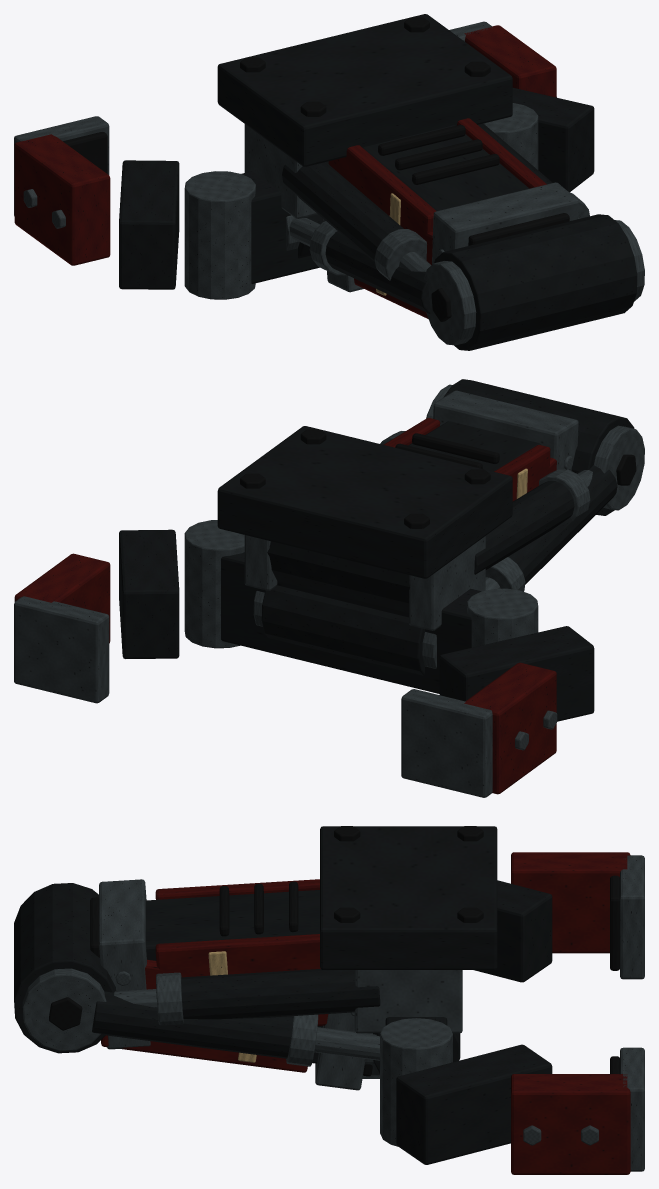
Rendered from ProxyMinePlacementArm.glb.
3 renders of one model, top to bottom at view 1: azimuth 30°, elevation 25°; view 2: azimuth 150°, elevation 25°; view 3: azimuth 270°, elevation 25°, orthographic.
Visible parts, largest first — view 1: MountGeometry, JawLeftGeometry, UpperGeometry, ForearmGeometry, JawRightGeometry, WristGeometry, SlideGeometry, Slide.001Geometry; view 2: MountGeometry, JawLeftGeometry, JawRightGeometry, UpperGeometry, ForearmGeometry, Slide.001Geometry, WristGeometry, SlideGeometry; view 3: MountGeometry, JawRightGeometry, UpperGeometry, ForearmGeometry, JawLeftGeometry, Slide.001Geometry, SlideGeometry.
Part boxes in pixels (<box>): MountGeometry: <box>217,14,512,218</box>; JawLeftGeometry: <box>14,116,255,299</box>; UpperGeometry: <box>282,118,589,280</box>; ForearmGeometry: <box>309,214,644,350</box>; JawRightGeometry: <box>449,21,594,191</box>; WristGeometry: <box>241,171,319,283</box>; SlideGeometry: <box>399,217,579,340</box>; Slide.001Geometry: <box>286,214,323,258</box>; MountGeometry: <box>217,426,512,630</box>; JawLeftGeometry: <box>401,588,594,797</box>; JawRightGeometry: <box>14,520,244,703</box>; UpperGeometry: <box>380,390,590,574</box>; ForearmGeometry: <box>426,379,644,591</box>; Slide.001Geometry: <box>253,577,500,675</box>; WristGeometry: <box>221,552,481,693</box>; SlideGeometry: <box>577,436,641,503</box>; MountGeometry: <box>320,826,497,1033</box>; JawRightGeometry: <box>380,1018,644,1174</box>; UpperGeometry: <box>90,879,380,1049</box>; ForearmGeometry: <box>14,883,372,1090</box>; JawLeftGeometry: <box>474,852,644,982</box>; Slide.001Geometry: <box>314,1027,460,1073</box>; SlideGeometry: <box>25,968,157,1044</box>.
Size of the model in its own units: 1.52 by 0.5775 by 1.64.
Materials: 5 (5 with a texture image).
